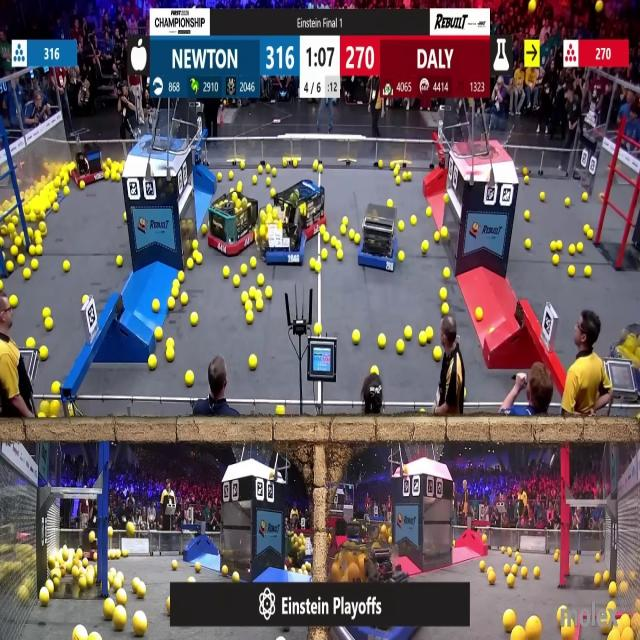ball_airborne: (528, 0, 536, 13), (128, 523, 136, 536), (596, 0, 603, 13)
ball_ground: (134, 615, 148, 637), (527, 618, 540, 640), (114, 611, 125, 632), (503, 612, 514, 632), (104, 600, 115, 618), (73, 627, 86, 640), (40, 590, 49, 607), (137, 584, 146, 600), (513, 628, 525, 640), (50, 402, 59, 418), (184, 372, 193, 387), (249, 354, 257, 370), (116, 591, 125, 605), (601, 623, 610, 636), (379, 335, 387, 349), (433, 347, 441, 361), (352, 331, 360, 345), (488, 570, 496, 584), (608, 584, 616, 598), (562, 628, 572, 639), (149, 355, 156, 370), (154, 327, 162, 340), (189, 313, 197, 326), (40, 346, 48, 359), (396, 341, 404, 354), (51, 382, 59, 395), (132, 578, 140, 591), (167, 348, 174, 362), (426, 327, 433, 341), (9, 295, 17, 307), (474, 309, 482, 321), (419, 334, 427, 346), (180, 292, 188, 304), (506, 574, 514, 586), (246, 312, 254, 324), (44, 318, 52, 330), (315, 322, 322, 335), (152, 300, 159, 313), (406, 326, 413, 339), (259, 224, 266, 237), (266, 287, 274, 298), (255, 301, 263, 312), (443, 304, 450, 316), (441, 288, 448, 300), (186, 257, 193, 269), (250, 256, 257, 268), (595, 573, 602, 585), (194, 252, 201, 264), (35, 232, 42, 244), (276, 407, 284, 417), (172, 287, 180, 297), (524, 240, 532, 250), (28, 338, 35, 349), (25, 269, 32, 280), (315, 263, 322, 274), (222, 268, 229, 279), (533, 567, 540, 578), (249, 288, 256, 299), (442, 229, 449, 240), (255, 288, 262, 299), (91, 633, 102, 640), (422, 241, 428, 253), (517, 554, 523, 566), (553, 254, 560, 264), (167, 339, 174, 349), (43, 308, 50, 318), (245, 302, 252, 312), (512, 565, 519, 575), (557, 242, 564, 252), (603, 571, 610, 581), (29, 245, 36, 255), (586, 267, 592, 278), (568, 267, 574, 278), (178, 272, 184, 283), (257, 275, 263, 286), (32, 261, 38, 272), (242, 266, 248, 277), (321, 249, 327, 260), (116, 255, 122, 266), (169, 297, 175, 308), (194, 562, 200, 573), (338, 250, 344, 261), (330, 237, 336, 248), (551, 241, 557, 252), (369, 365, 376, 374), (406, 172, 413, 181), (64, 263, 70, 273), (412, 215, 418, 225), (588, 231, 594, 241), (235, 276, 241, 286), (445, 269, 451, 279), (6, 263, 12, 273), (522, 568, 528, 578), (569, 244, 575, 254), (234, 571, 240, 581), (221, 566, 227, 576), (242, 292, 248, 302), (524, 210, 530, 220), (36, 245, 42, 255), (576, 243, 582, 253), (354, 234, 360, 244), (51, 203, 57, 213), (337, 239, 343, 249), (114, 172, 120, 182), (313, 162, 319, 172), (348, 230, 354, 240), (237, 182, 243, 192), (557, 614, 563, 624), (40, 210, 46, 220), (308, 261, 313, 272), (172, 561, 178, 570), (539, 191, 545, 200), (17, 255, 23, 264), (40, 222, 46, 231), (341, 225, 347, 234), (11, 246, 17, 255), (343, 216, 349, 225), (608, 601, 614, 610), (28, 230, 34, 239), (14, 238, 20, 247), (320, 224, 326, 233), (64, 175, 70, 184), (481, 562, 486, 572), (398, 251, 403, 261), (434, 233, 439, 243), (398, 220, 403, 230), (324, 234, 329, 244), (504, 564, 509, 574), (191, 240, 196, 250), (445, 192, 450, 202), (121, 551, 128, 558), (583, 192, 589, 200), (64, 186, 70, 194), (271, 188, 277, 196), (202, 224, 208, 232), (282, 160, 288, 168), (506, 550, 512, 558), (426, 208, 431, 217), (555, 553, 560, 562), (379, 161, 384, 170), (524, 176, 530, 183), (318, 166, 324, 173), (388, 200, 393, 208), (79, 182, 84, 190), (252, 176, 257, 184), (596, 554, 601, 562), (0, 281, 4, 291), (272, 168, 277, 176), (227, 172, 232, 180), (267, 166, 272, 174), (574, 556, 579, 564), (483, 534, 488, 542), (394, 169, 399, 177), (187, 576, 193, 582), (566, 199, 570, 208), (396, 176, 400, 185), (268, 177, 272, 186), (217, 173, 221, 182), (585, 223, 589, 232), (0, 239, 4, 248), (523, 168, 528, 175), (500, 545, 505, 552), (39, 413, 44, 420), (292, 159, 296, 167), (122, 213, 126, 221), (82, 294, 86, 302), (106, 172, 110, 180), (387, 161, 392, 167), (257, 168, 261, 175), (241, 163, 245, 170), (19, 233, 23, 240)
goal: (461, 117, 516, 158), (130, 116, 188, 152)
robot_blue: (335, 566, 418, 640), (256, 202, 306, 268), (360, 208, 398, 270)
robot_red: (208, 191, 258, 254), (282, 181, 328, 236), (72, 141, 104, 184), (284, 533, 314, 570)
